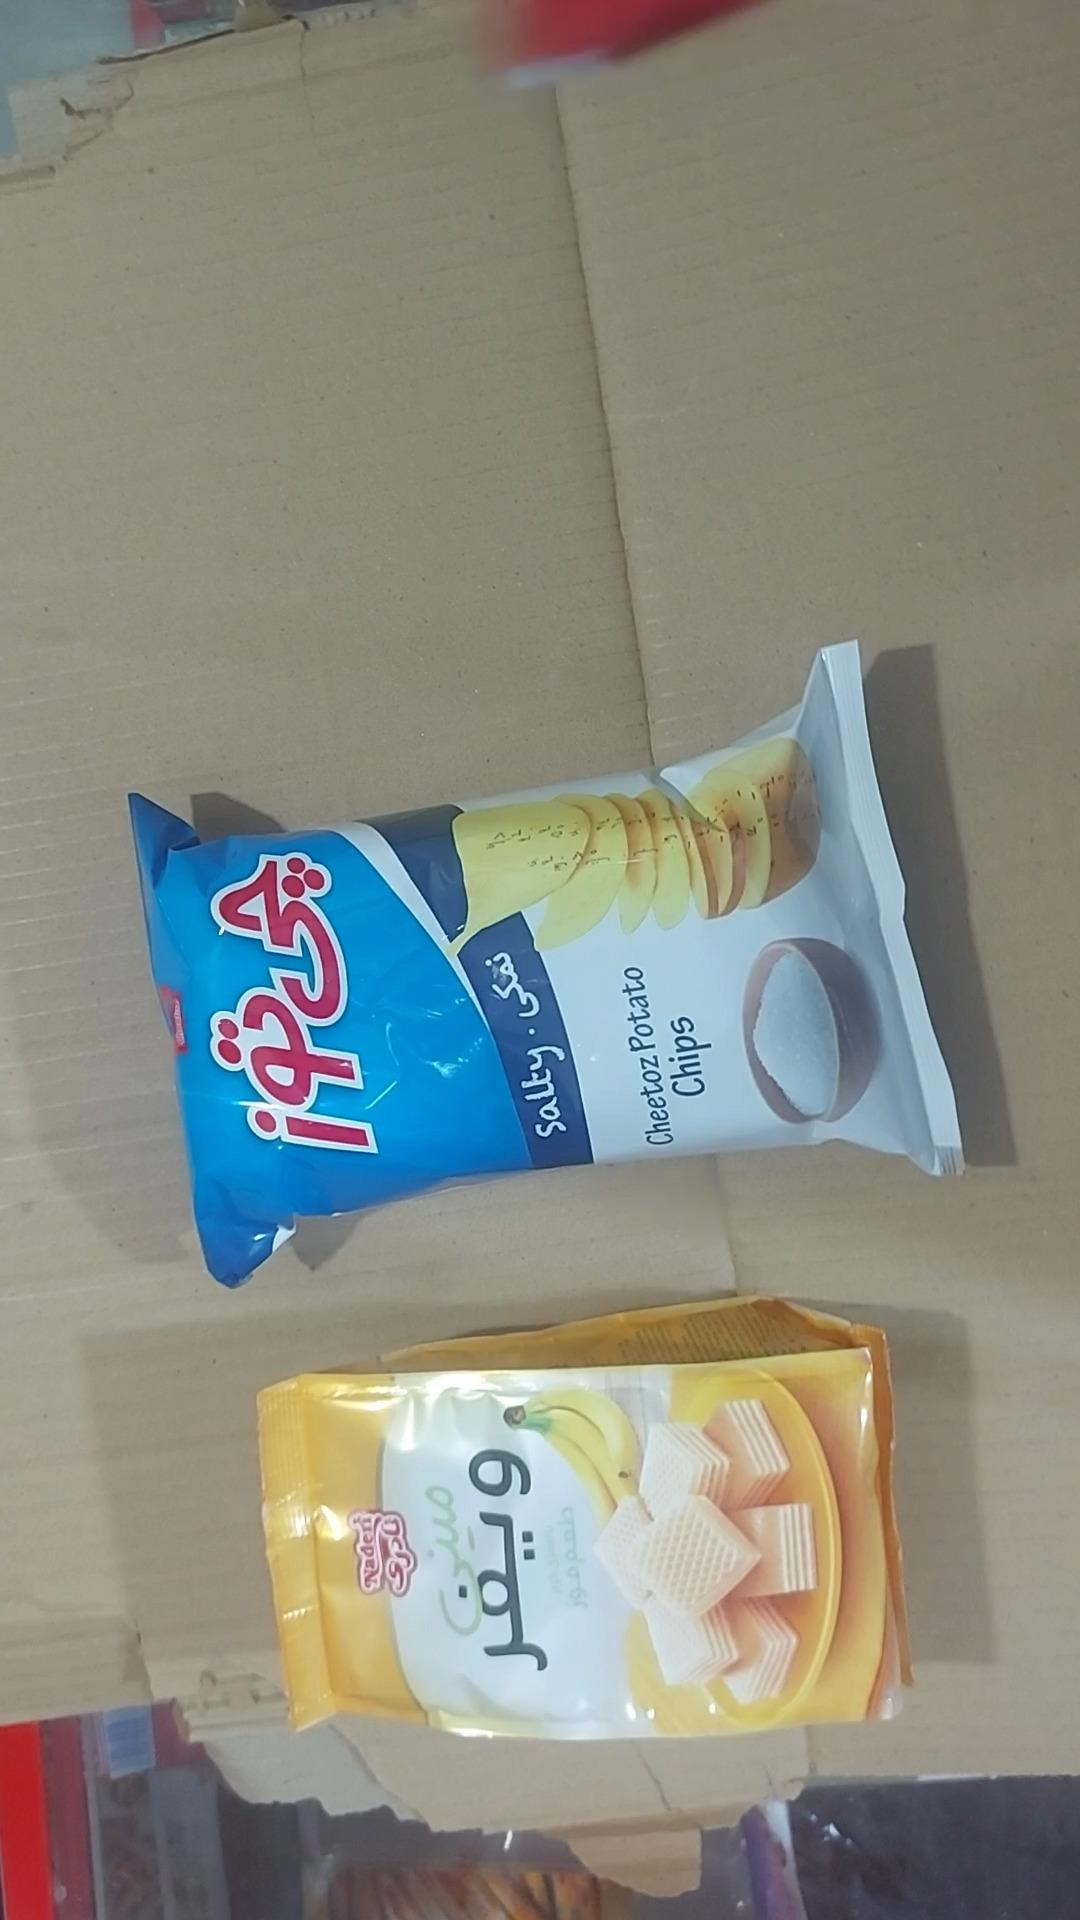Cheetoz salty chips: (127, 644, 964, 1291)
Naderi mini wafer: (256, 1298, 915, 1745)
